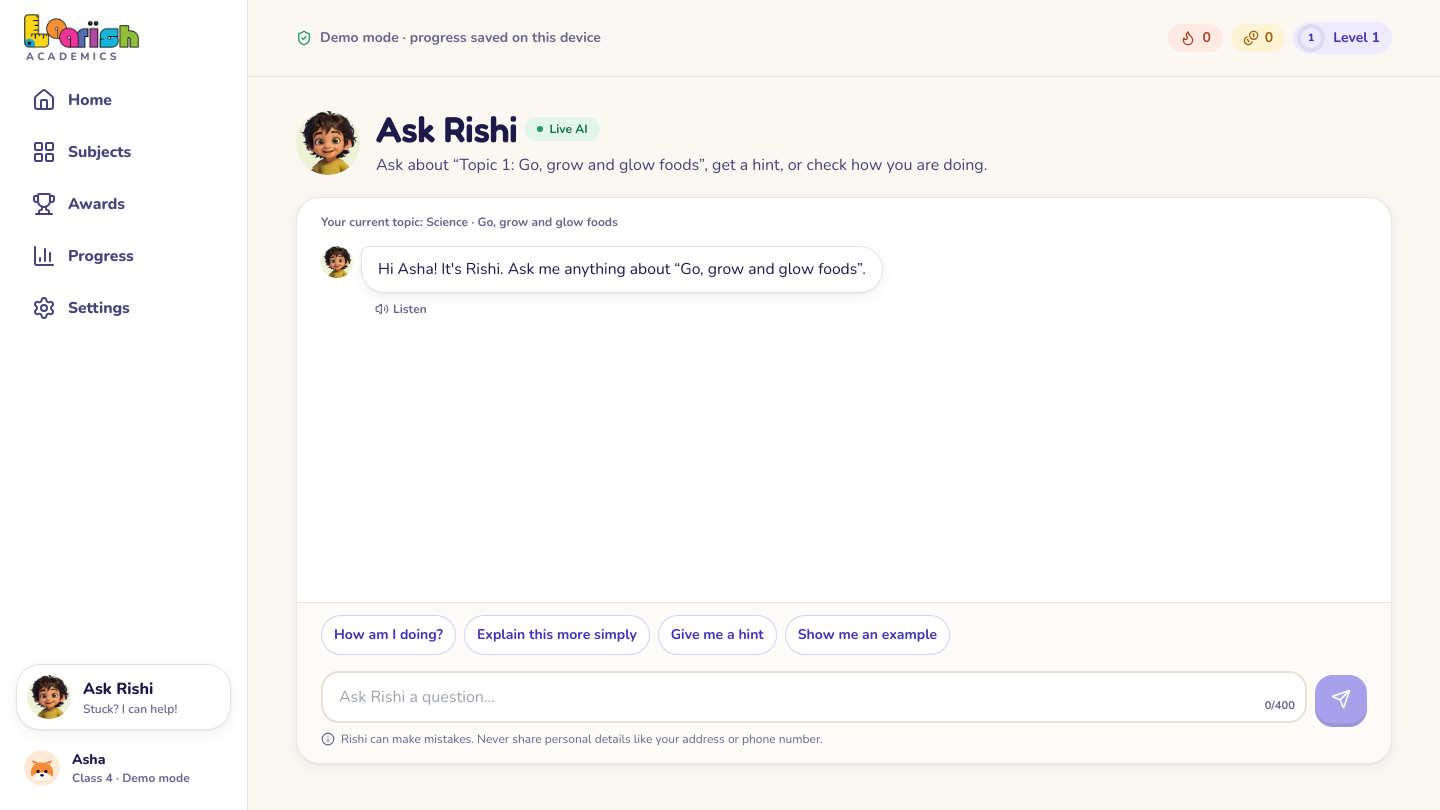
Test: Mentor chat in the browser › does not silently switch to demo answers when the live server drops the connection
Expected: the text "Live AI" is shown, [526,117,600,141]
Type "Why do shoes have grip?" into the text box labelled "Ask Rishi a question...".
click(814, 697); type("Why do shoes have grip?")  # box [321,671,1307,723]
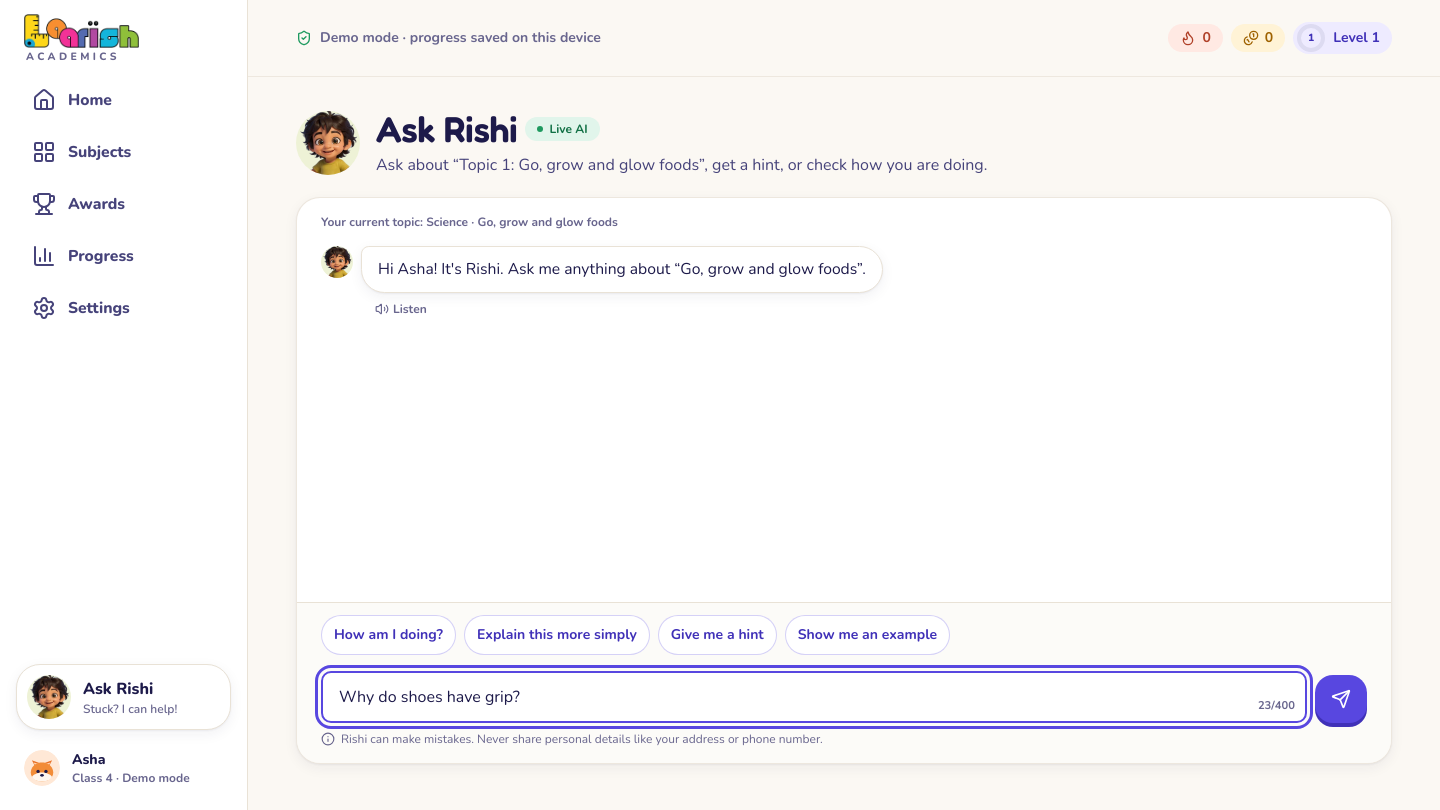
Click the button named "send question".
click(1341, 699)  # box [1315,675,1367,723]
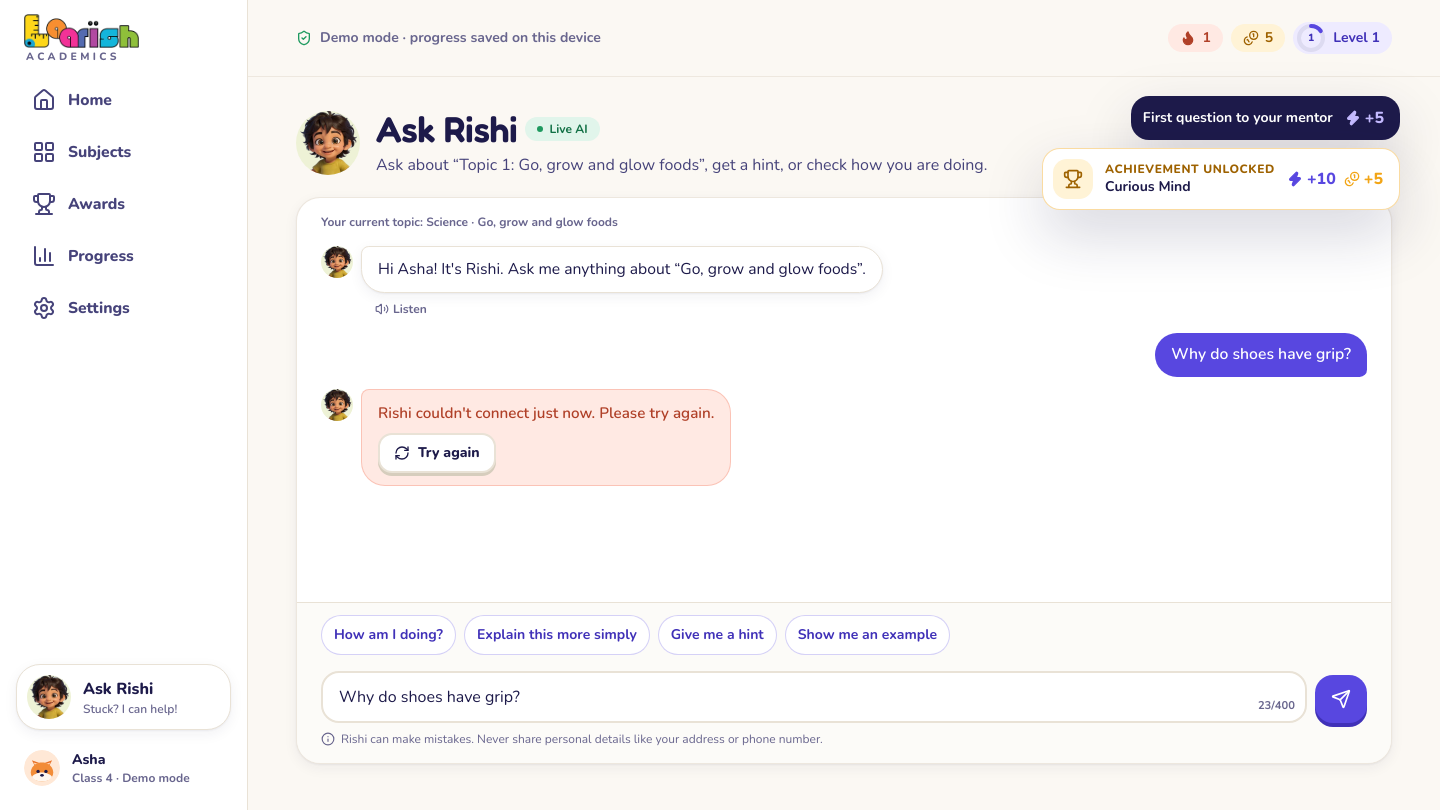
Result: the message "Rishi couldn't connect just now. Please try again. Try again" is shown at [361,389,731,486]
